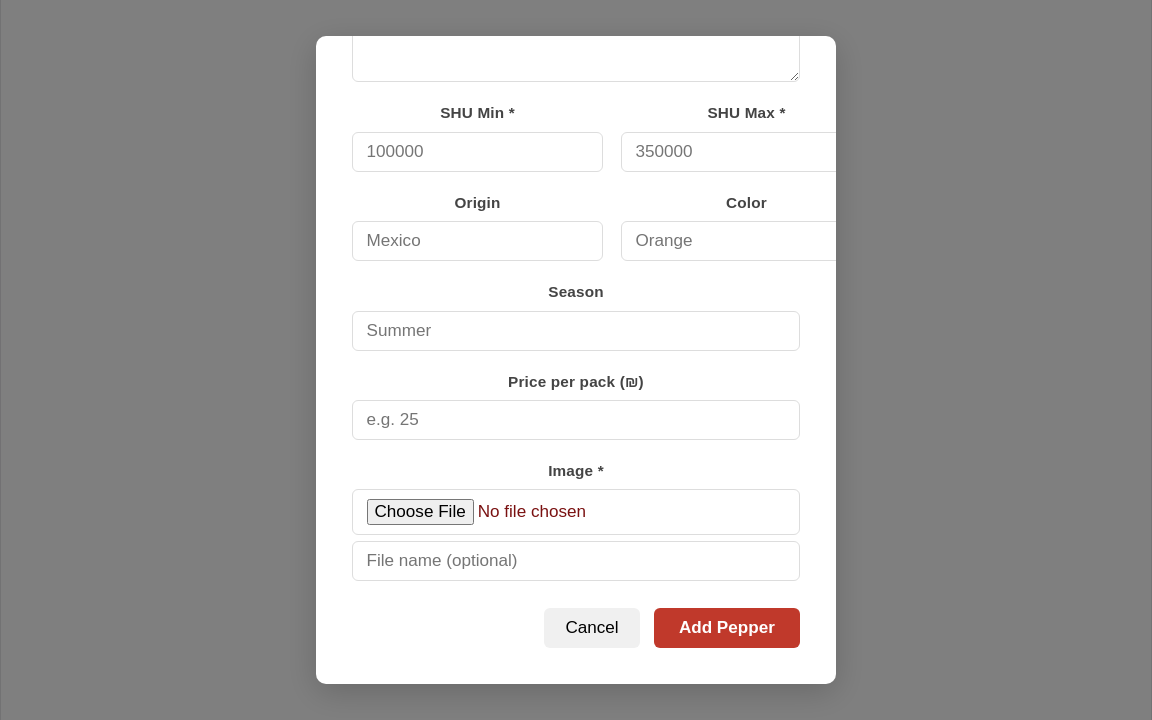
Test: ChilliFormModal › shows validation error when required fields are empty
(page scrolled)
Click the button "Add Pepper" at (727, 628), box [654, 608, 800, 648]
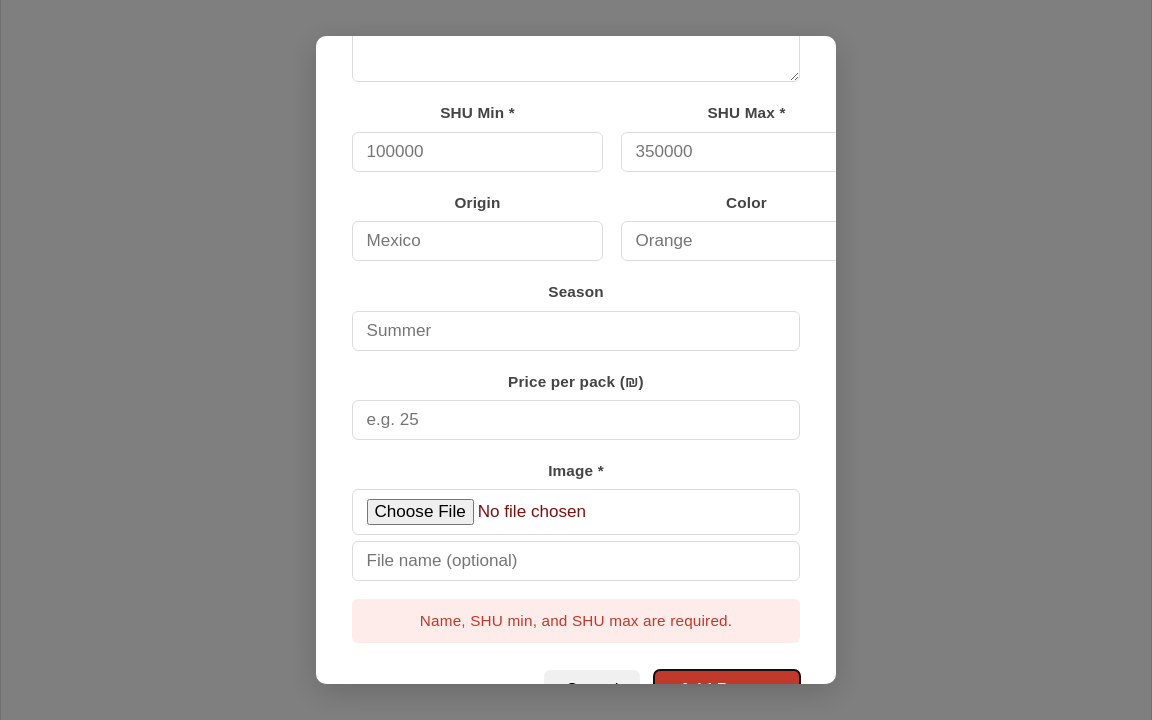
Expected: the text "Name, SHU min, and SHU max are required." is shown, [352, 599, 800, 643]
